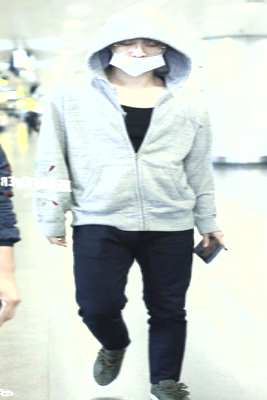mask_weared_incorrect: (107, 40, 167, 77)
